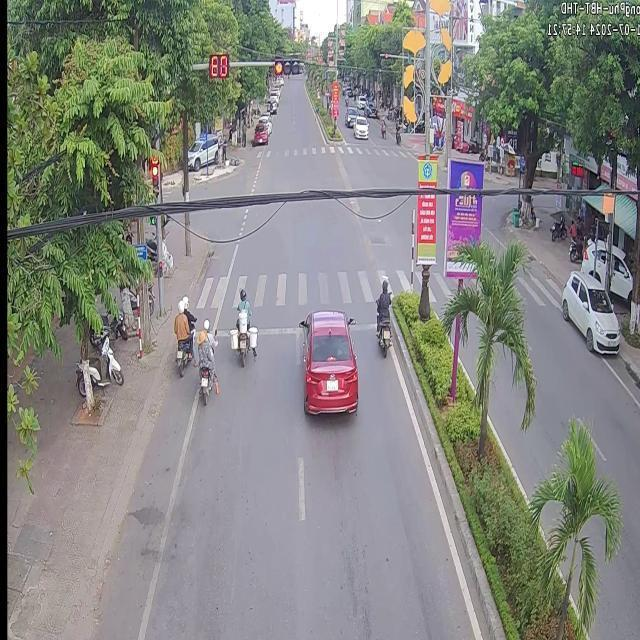car: (298, 309, 357, 411), (559, 269, 618, 351), (186, 131, 217, 169), (609, 245, 630, 294), (579, 238, 593, 272), (594, 238, 604, 282), (252, 120, 267, 145), (352, 114, 367, 137), (343, 105, 357, 126)
motobike: (228, 287, 257, 365), (172, 296, 194, 376), (98, 331, 122, 382), (374, 276, 389, 355), (197, 365, 212, 402), (87, 362, 107, 387), (74, 360, 84, 396)
red_light: (209, 52, 229, 78), (276, 60, 298, 75), (150, 150, 156, 189)
stop_line: (257, 325, 299, 334), (348, 321, 374, 330), (212, 327, 228, 336)
